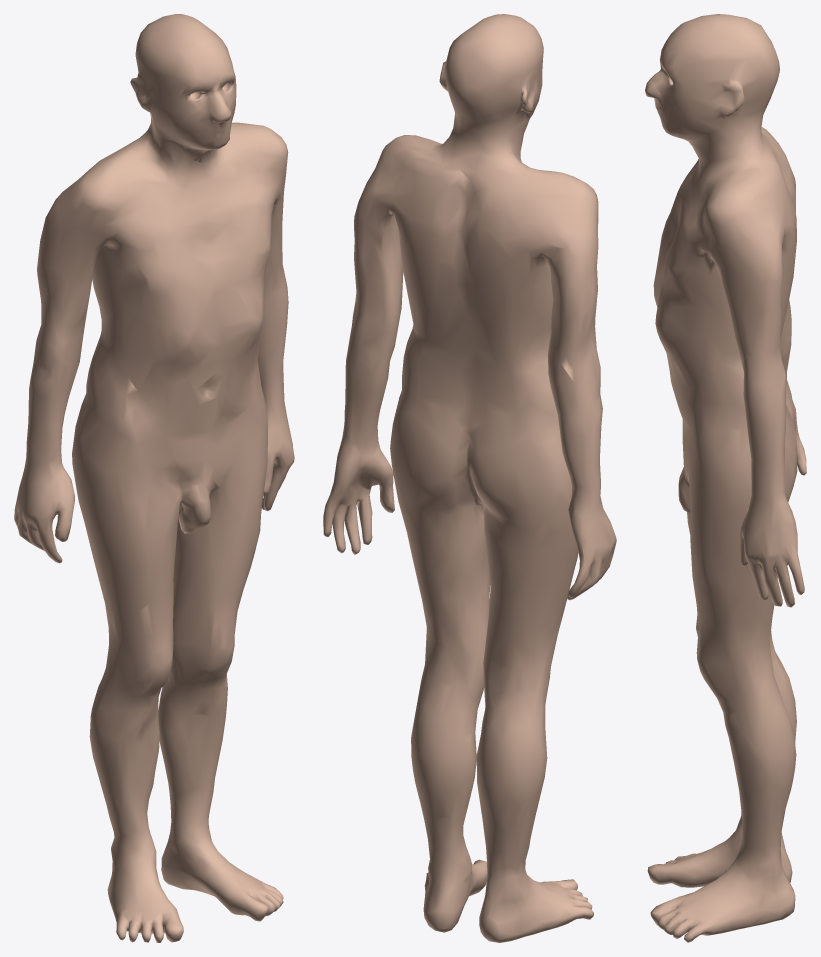
File: icrp_adult_male.surface.LOD2.glb
The picture shows the model from 3 angles, left to right: view 1: azimuth 30°, elevation 25°; view 2: azimuth 150°, elevation 25°; view 3: azimuth 270°, elevation 25°; orthographic projection.
Parts seen in each view (by area): view 1: ICRP.ADULT.MALE.SURFACE.SKIN; view 2: ICRP.ADULT.MALE.SURFACE.SKIN; view 3: ICRP.ADULT.MALE.SURFACE.SKIN.
Boxes of the visible parts, <box> form: ICRP.ADULT.MALE.SURFACE.SKIN: <box>14,14,294,942</box>; ICRP.ADULT.MALE.SURFACE.SKIN: <box>323,14,616,942</box>; ICRP.ADULT.MALE.SURFACE.SKIN: <box>645,14,806,942</box>.
Bounding box in the file's own units: 0.559 × 1.76 × 0.2909.
